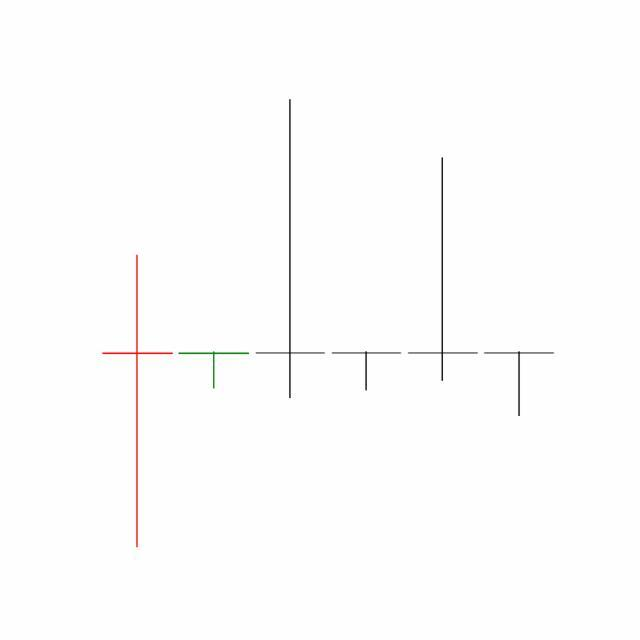Gravestone Doji: (404, 155, 482, 384)
